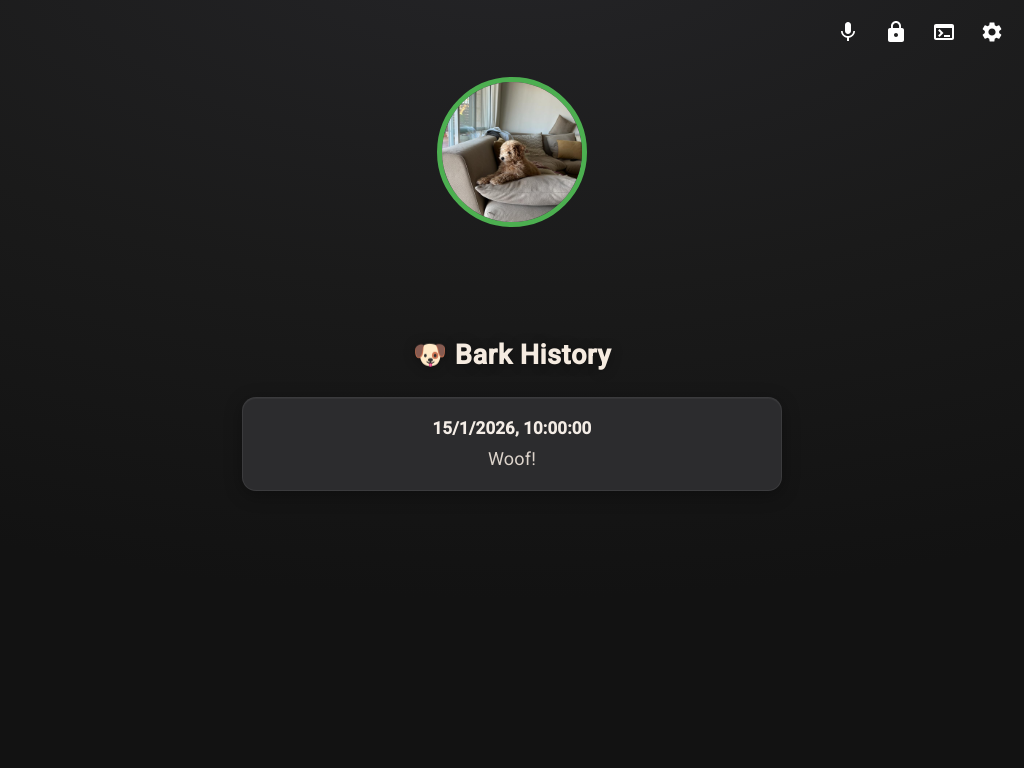
Test: Home UI › opens settings panel with Detection / Alerts / Browser tabs
Click the button named "open settings".
click(992, 32)  # box [972, 12, 1012, 52]
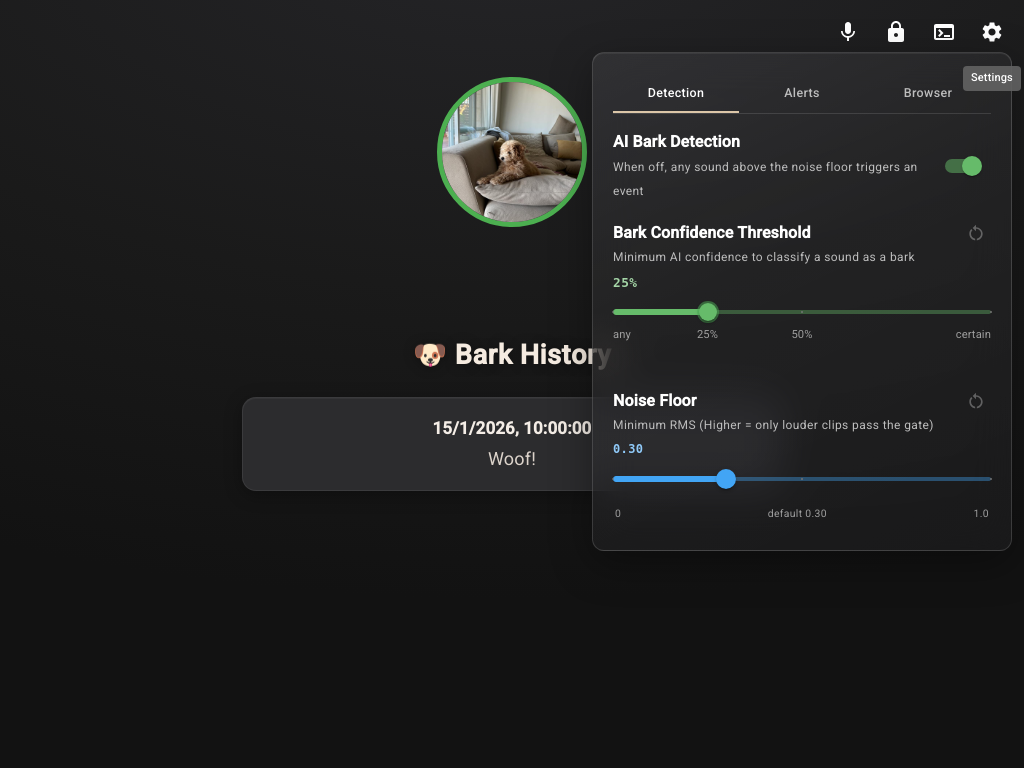
Result: the tab "Detection" is shown at [613, 73, 739, 113]
Result: the tab "Alerts" is shown at [739, 73, 865, 113]
Result: the tab "Browser" is shown at [865, 73, 991, 113]
